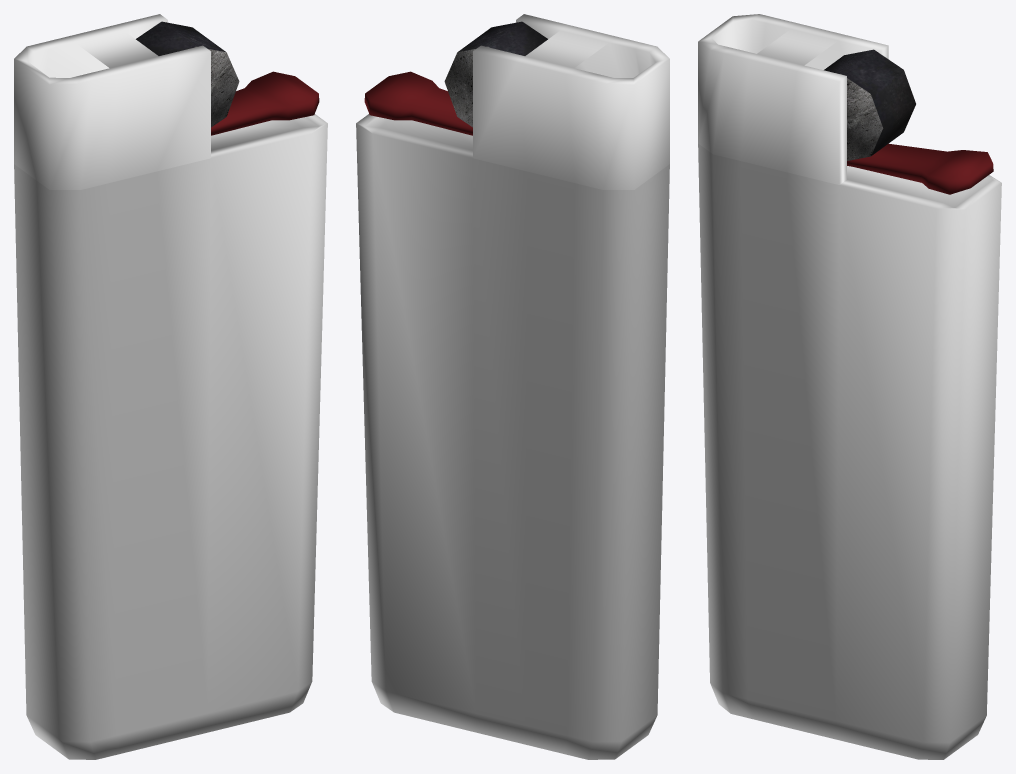
Rendered from Fire.fbx.
3 views of the same model, side by side, from view 1: azimuth 30°, elevation 25°; view 2: azimuth 150°, elevation 25°; view 3: azimuth 330°, elevation 25° (orthographic). The views are drawn at different scales.
Visible parts, largest first — view 1: Cube.012; view 2: Cube.012; view 3: Cube.012.
Part boxes in pixels (x1,y1,x2,y2): Cube.012: (14, 14, 327, 759); Cube.012: (356, 14, 669, 759); Cube.012: (698, 14, 1001, 759).
Bounding box in the file's own units: 2.29 × 0.7298 × 5.38.
Materials: 6 (3 with a texture image).
